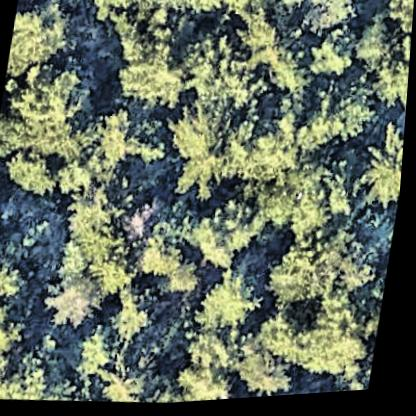tree-top: (256, 297, 382, 387), (246, 151, 367, 243), (0, 55, 99, 166), (280, 73, 388, 168), (160, 95, 257, 199), (270, 223, 385, 309), (113, 24, 198, 113), (0, 332, 86, 407), (190, 196, 267, 277), (190, 264, 269, 340), (8, 0, 82, 74), (229, 9, 310, 76), (72, 0, 215, 37), (235, 0, 363, 40), (93, 107, 162, 179), (343, 4, 407, 80), (240, 119, 308, 188), (233, 342, 306, 403), (0, 247, 42, 353), (66, 323, 135, 382), (358, 132, 407, 215), (64, 183, 126, 245), (111, 284, 167, 338), (51, 273, 108, 326), (175, 361, 242, 406), (185, 328, 250, 374), (141, 224, 192, 282), (102, 361, 164, 407), (313, 29, 362, 84), (6, 146, 61, 195), (367, 53, 412, 112), (371, 0, 415, 47), (0, 334, 2, 380)
